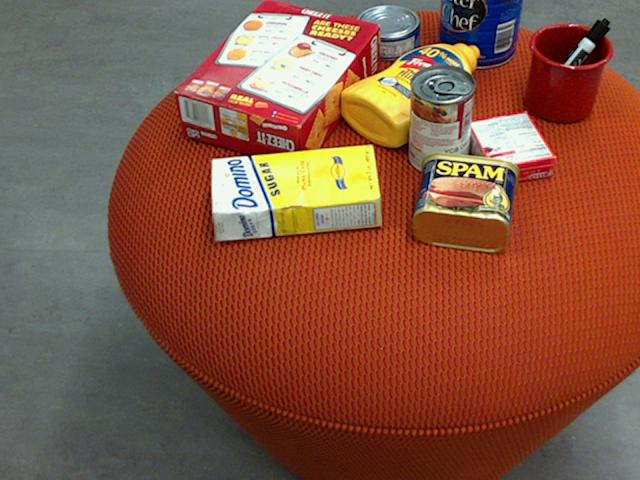cracker_box: (172, 0, 379, 168)
gelatin_box: (466, 113, 557, 185)
large_marker: (531, 16, 609, 108)
master_chef_can: (437, 0, 522, 66)
mug: (525, 22, 613, 121)
mustard_bottle: (339, 43, 479, 146)
potted_meat_can: (411, 151, 517, 251)
sugar_box: (208, 143, 382, 241)
tomato_soup_can: (408, 62, 473, 175)
tuna_fish_can: (354, 4, 419, 58)
